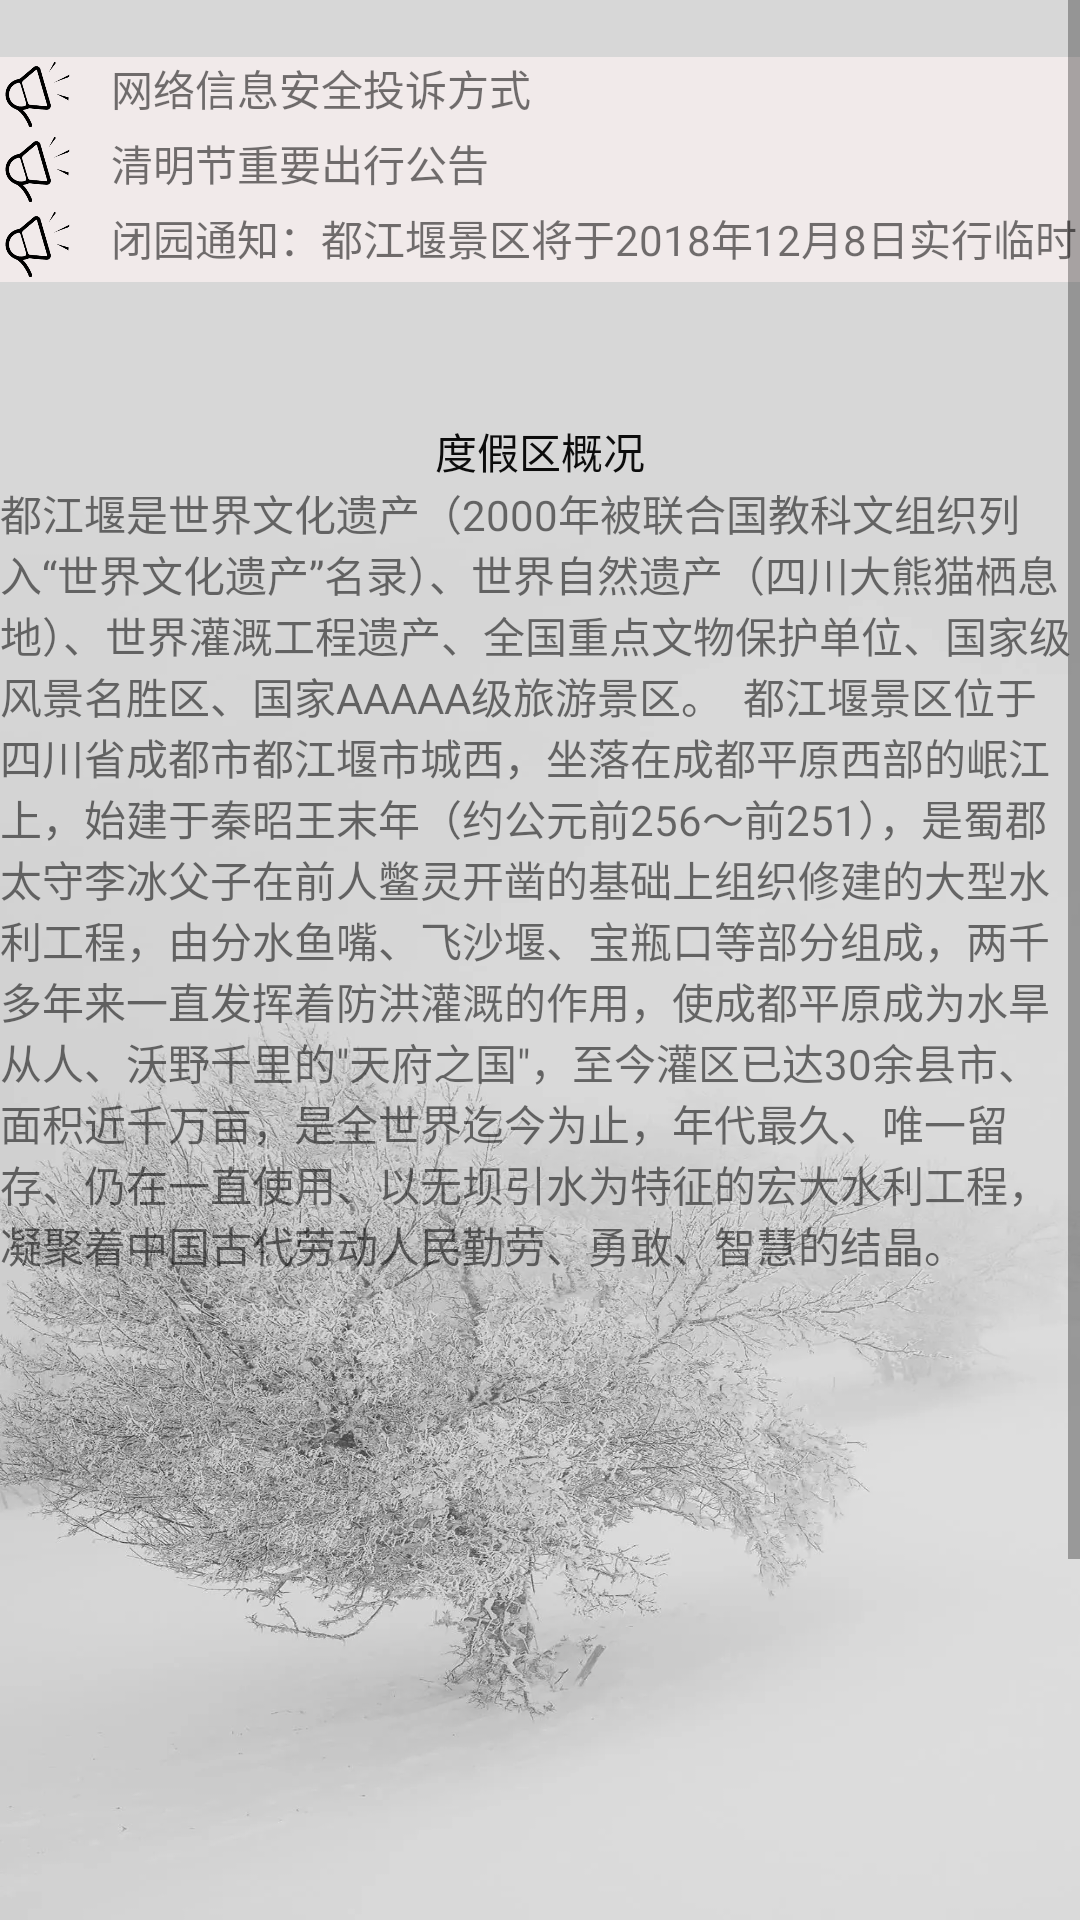

Where to tap for icons on this 1080 × 1920 app screen, as (x,y):
notice: (37,94), (37,169), (37,244)
